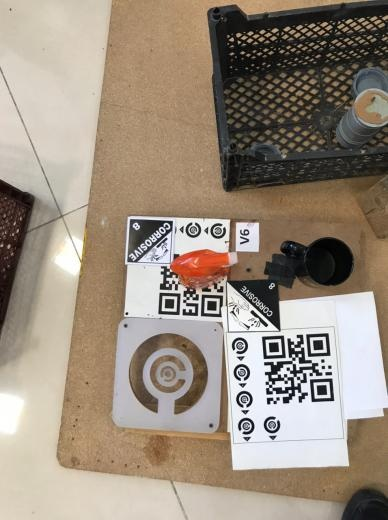Corrosive: (226, 280, 281, 332), (125, 216, 175, 266)
